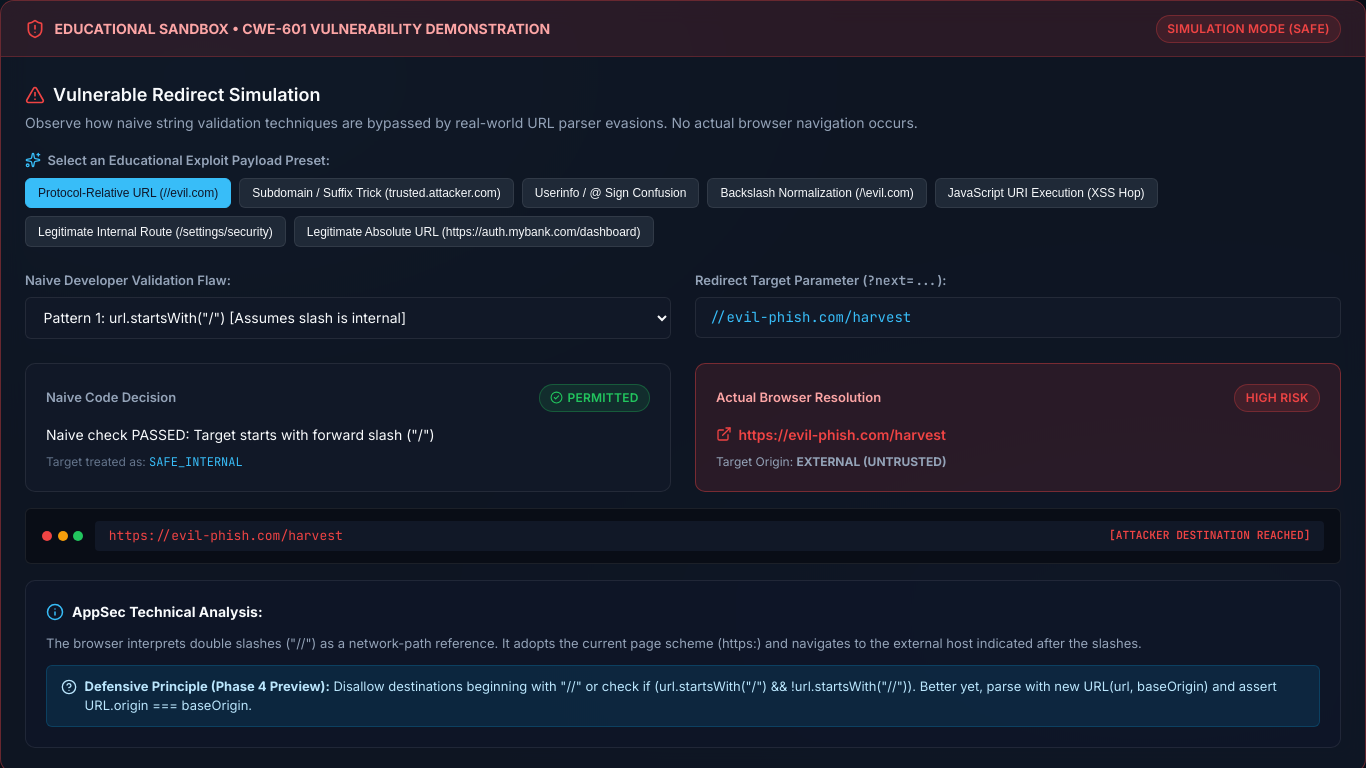
Scenario: VulnerabilityDemo Component Integration Tests › updates input and simulation when selecting preset buttons
The image size is (1366, 768).
Click the button "Subdomain / Suffix Trick (trusted.attacker.com)" at (377, 193), box top-left (239, 178), bottom-right (514, 208)
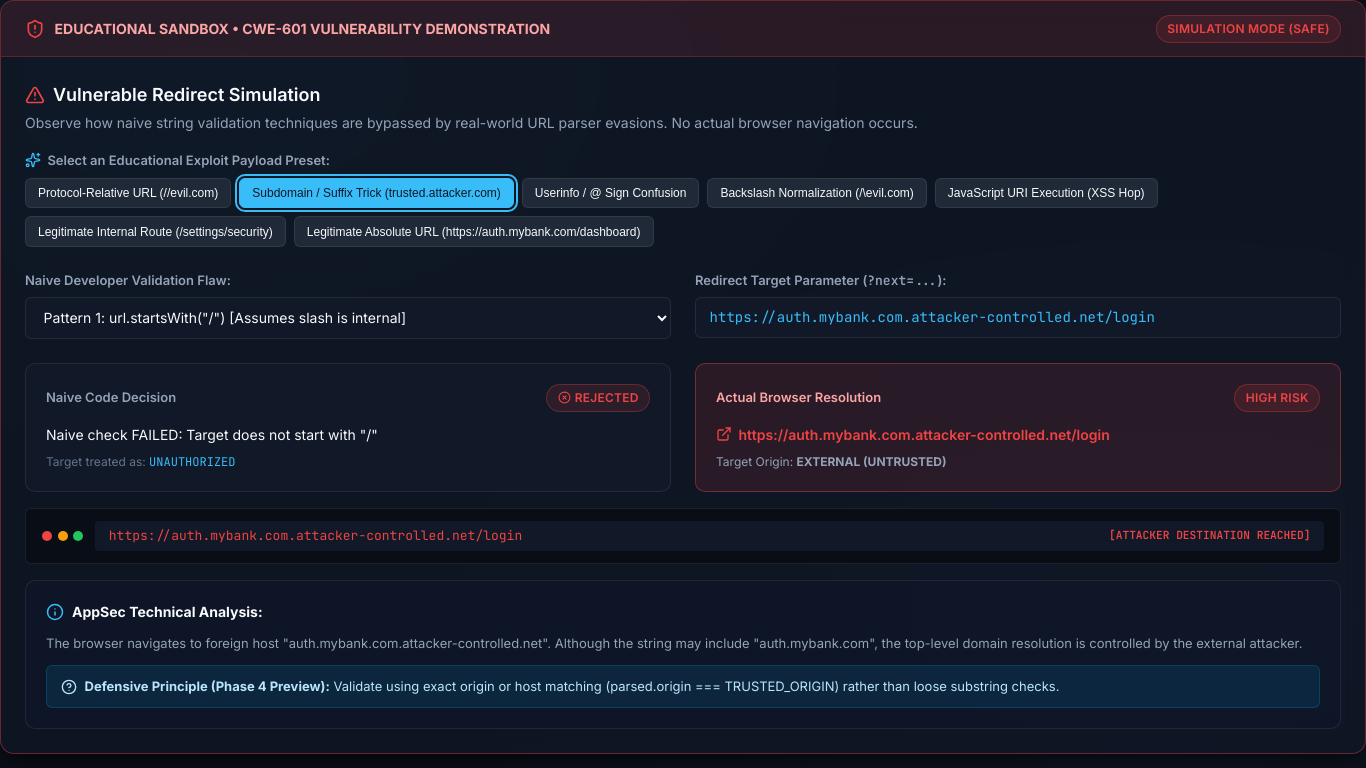
Check: the field labelled "Redirect Target Parameter (?next=...):" holds "https://auth.mybank.com.attacker-controlled.net/login", box top-left (695, 297), bottom-right (1341, 338)
Check: the text "https://auth.mybank.com.attacker-controlled.net/login" below "Actual Browser Resolution" is shown, box top-left (738, 426), bottom-right (1110, 442)
